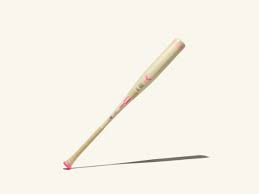baseball bat: (62, 38, 185, 168)
